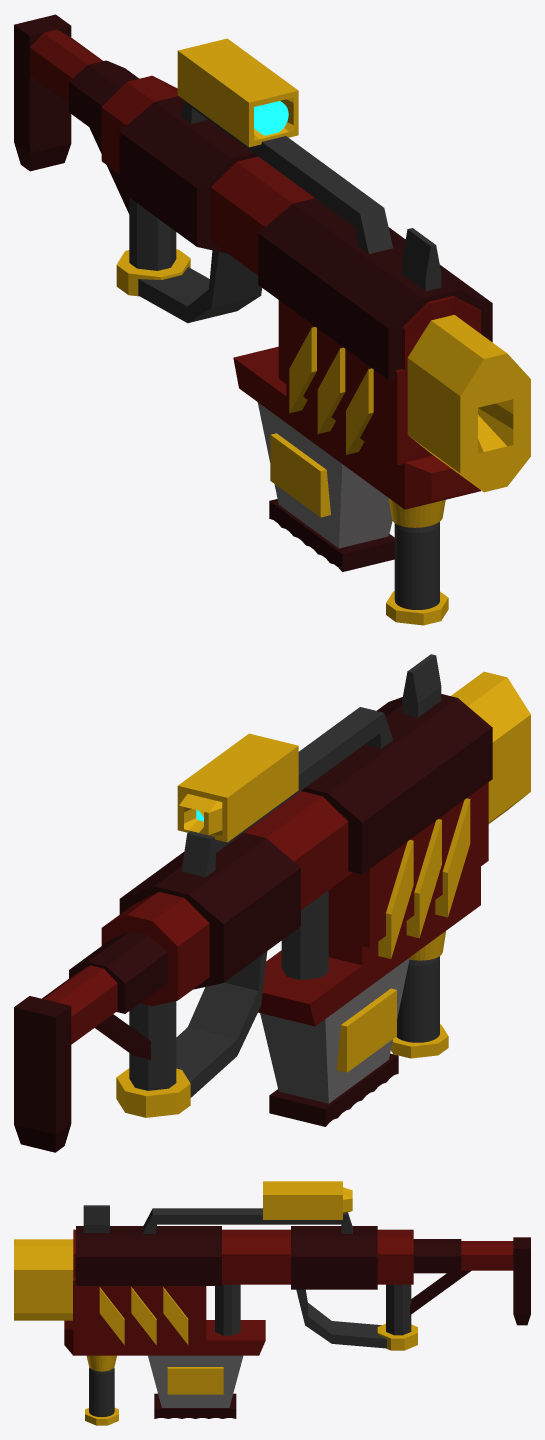
File: Weapon05-Lock.fbx
3 renders of one model, top to bottom at view 1: azimuth 30°, elevation 25°; view 2: azimuth 150°, elevation 25°; view 3: azimuth 270°, elevation 25°, orthographic. The views are drawn at different scales.
Visible parts, largest first — view 1: Cube.003; view 2: Cube.003; view 3: Cube.003.
Boxes of the visible parts, <box> form: Cube.003: <box>14,14,530,625</box>; Cube.003: <box>14,654,530,1152</box>; Cube.003: <box>14,1181,530,1425</box>.
Bounding box in the file's own units: 31.74 × 120 × 243.
